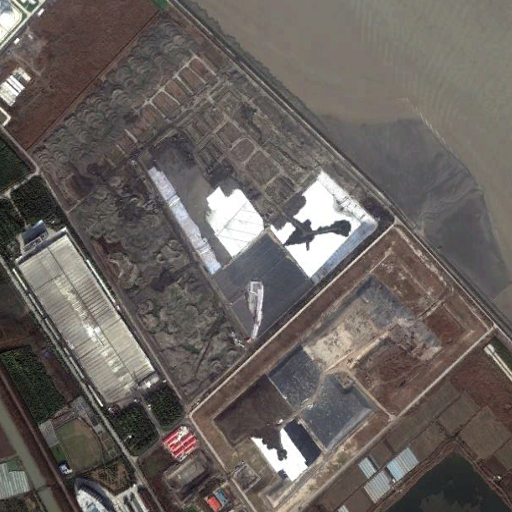lf: (193, 227, 496, 512), (137, 128, 377, 338)
